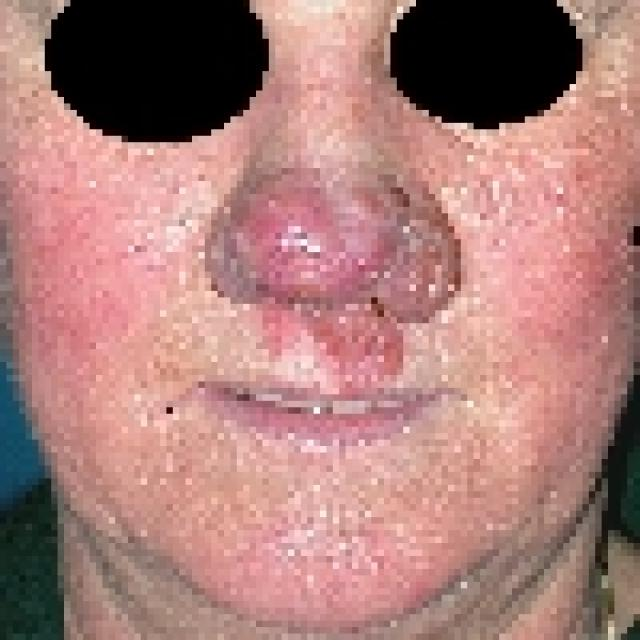lupus: (226, 158, 454, 378)
